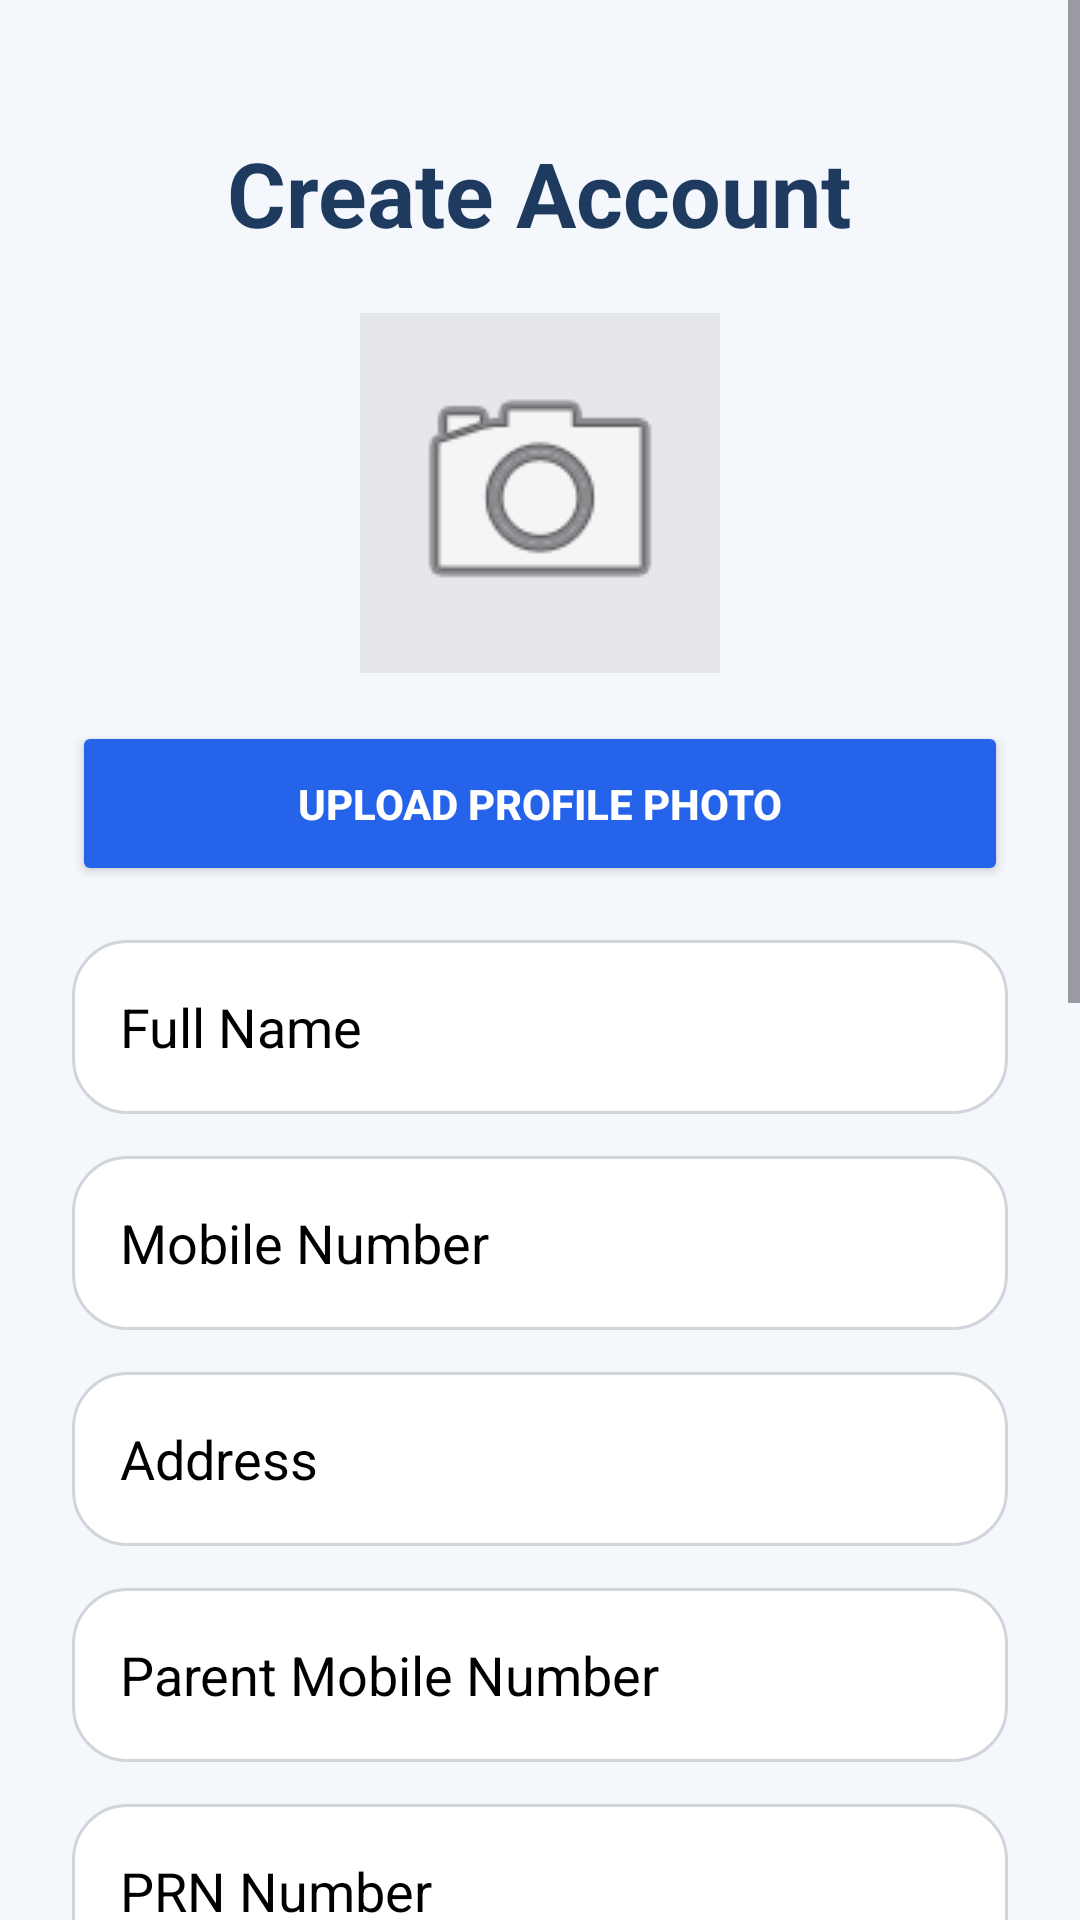

Named icons in this screenshot (1080w x 1920h) and their centers, (x,y):
camera: (540,493)
